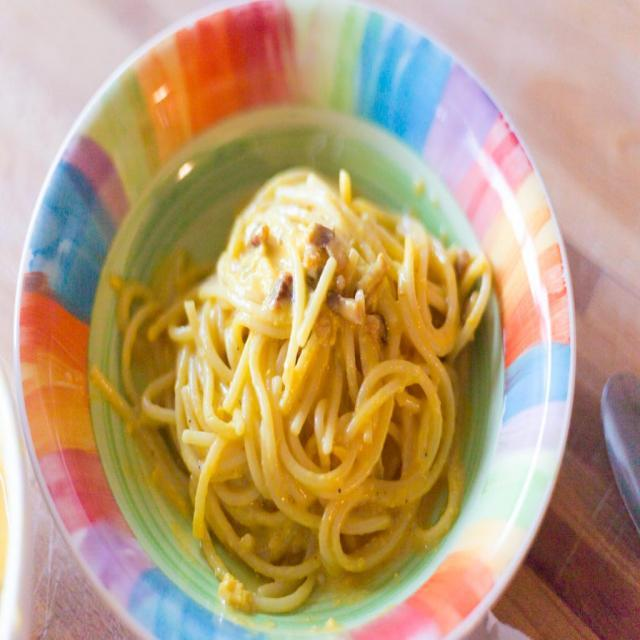Pasta with carbonara sauce: (133, 101, 519, 635)
